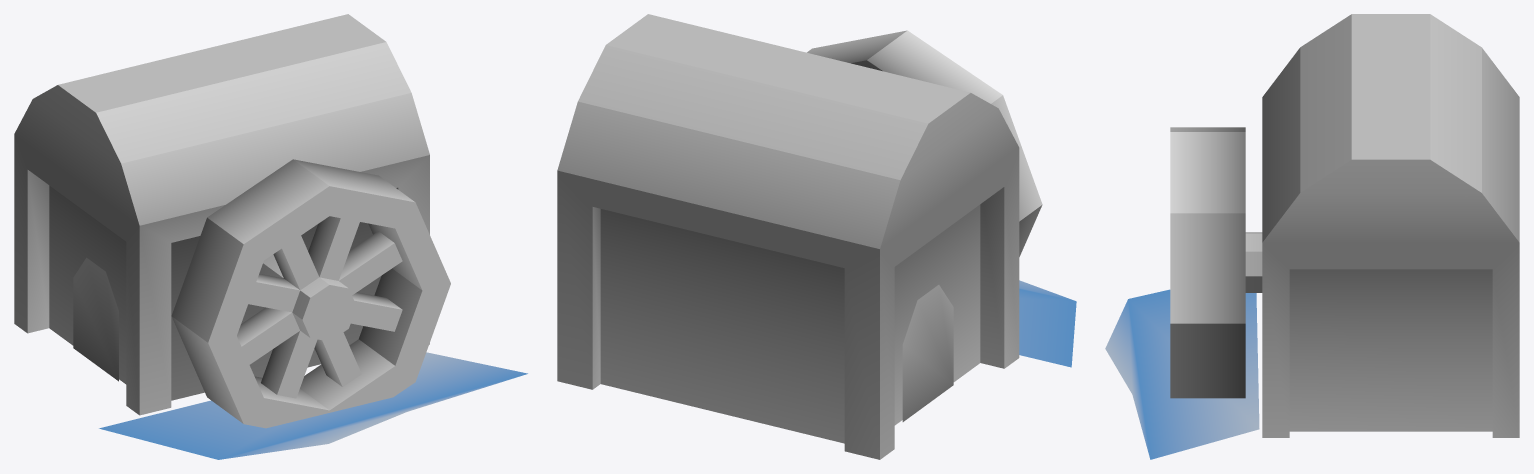
File: GunpowderMill.fbx
3 views of the same model, side by side, from view 1: azimuth 30°, elevation 25°; view 2: azimuth 150°, elevation 25°; view 3: azimuth 270°, elevation 25° (orthographic). The views are drawn at different scales.
Visible parts, largest first — view 1: Building, Wheel, Water; view 2: Building, Wheel, Water; view 3: Building, Wheel, Water.
Part boxes in pixels (bbox=[...]): Building: bbox=[14, 14, 429, 415]; Wheel: bbox=[171, 159, 450, 428]; Water: bbox=[99, 352, 527, 459]; Building: bbox=[557, 14, 1019, 459]; Wheel: bbox=[807, 30, 1042, 256]; Water: bbox=[1019, 280, 1076, 367]; Building: bbox=[1262, 14, 1519, 437]; Wheel: bbox=[1170, 127, 1262, 398]; Water: bbox=[1105, 289, 1259, 459].
Bounding box in the file's own units: 250 × 188 × 230.
